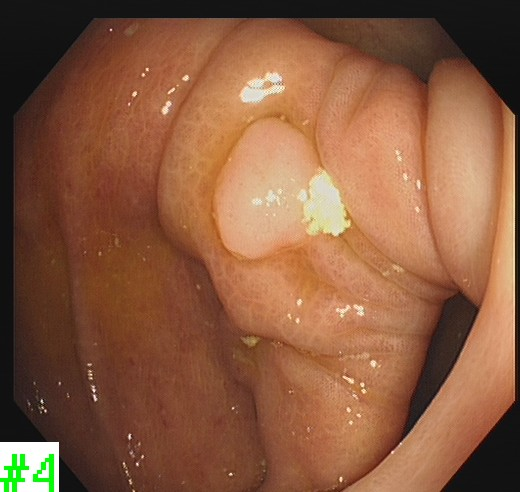adenoma: (208, 113, 329, 265)
